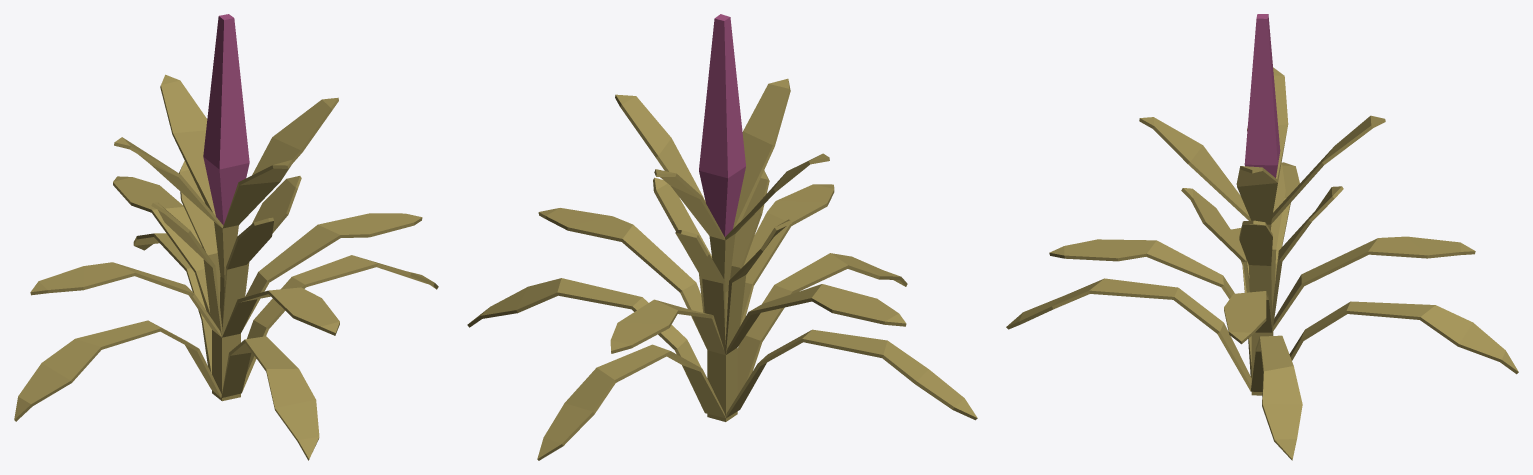
The model's file is Plant_5.glb.
3 views of the same model, side by side, from view 1: azimuth 30°, elevation 25°; view 2: azimuth 150°, elevation 25°; view 3: azimuth 270°, elevation 25° (orthographic). The views are drawn at different scales.
Visible parts, largest first — view 1: Plant_5; view 2: Plant_5; view 3: Plant_5.
Boxes of the visible parts, <box> form: Plant_5: <box>14,14,438,460</box>; Plant_5: <box>467,14,977,460</box>; Plant_5: <box>1006,14,1518,460</box>.
Size of the model in its own units: 0.6973 by 0.5541 by 0.6873.
